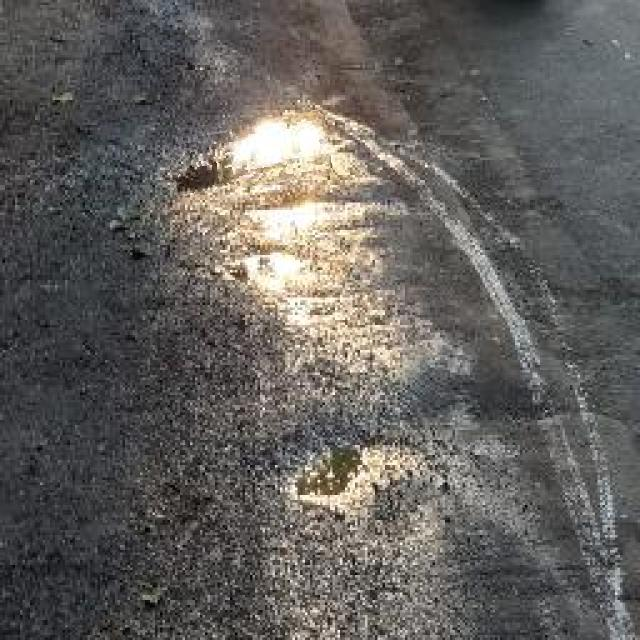puddle: (168, 117, 332, 193)
